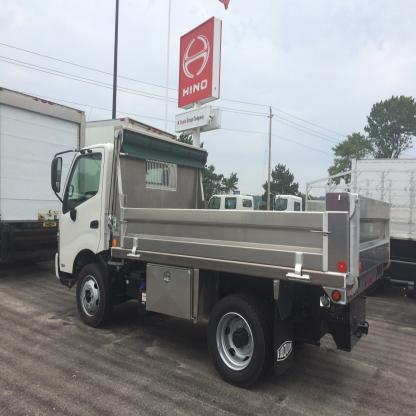dump_truck: (36, 111, 405, 397)
